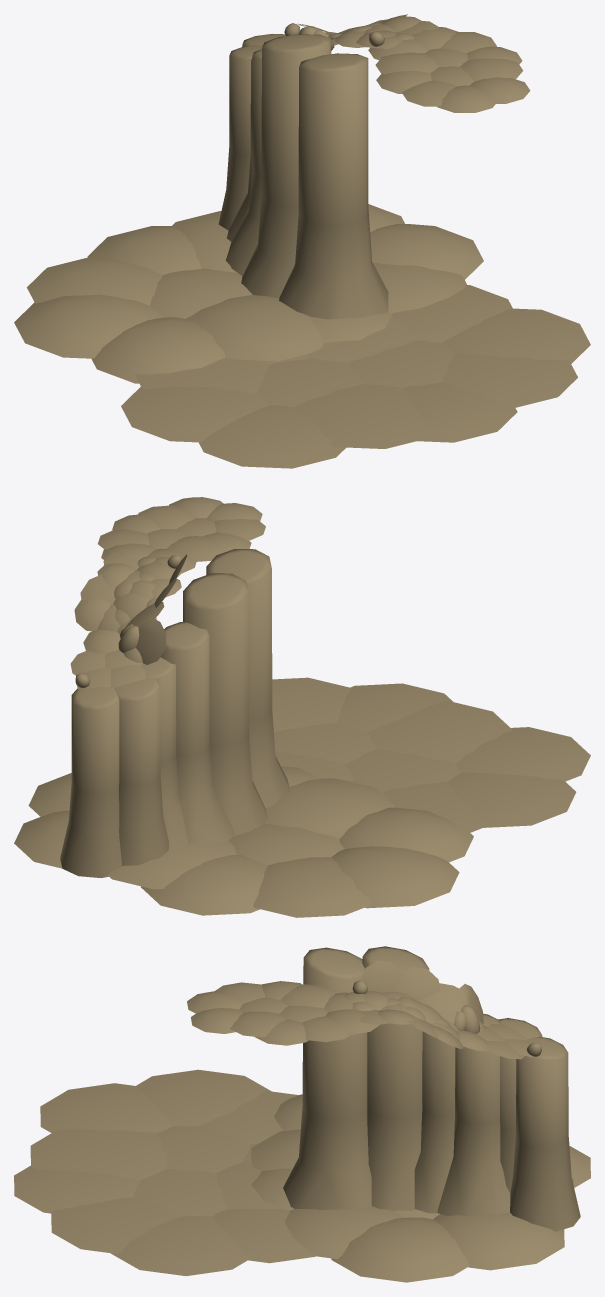
Rendered from birdRaceTerrain_000.gltf.
The picture shows the model from 3 angles, top to bottom: view 1: azimuth 30°, elevation 25°; view 2: azimuth 150°, elevation 25°; view 3: azimuth 270°, elevation 25°; orthographic projection. The views are drawn at different scales.
Visible parts, largest first — view 1: Terrain.001; view 2: Terrain.001; view 3: Terrain.001.
Part boxes in pixels (bbox=[...]): Terrain.001: bbox=[14, 14, 590, 468]; Terrain.001: bbox=[14, 497, 590, 917]; Terrain.001: bbox=[14, 946, 590, 1282].
Size of the model in its own units: 124 by 75.32 by 144.
